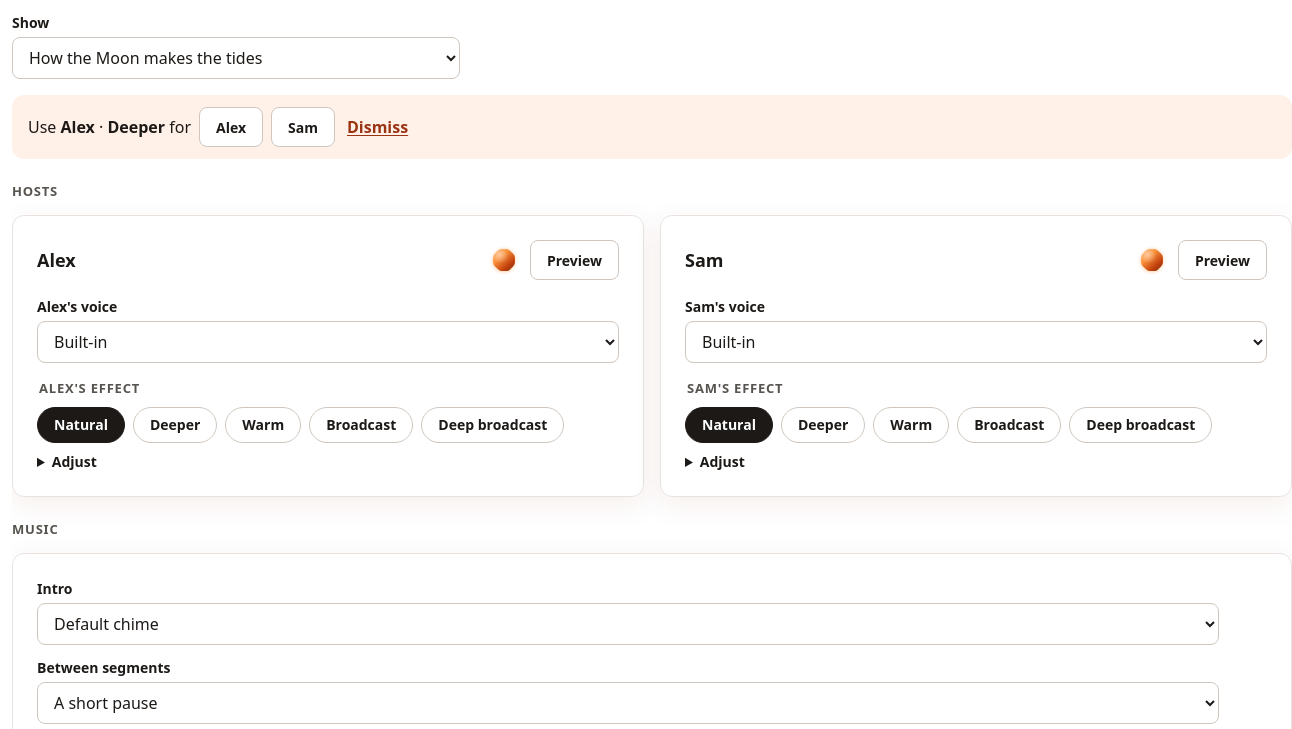
Test: voice studio › carries a voice and effect over from Type to speech to a host
Click the button "Sam": (303, 127) top-left (271, 107), bottom-right (335, 147)
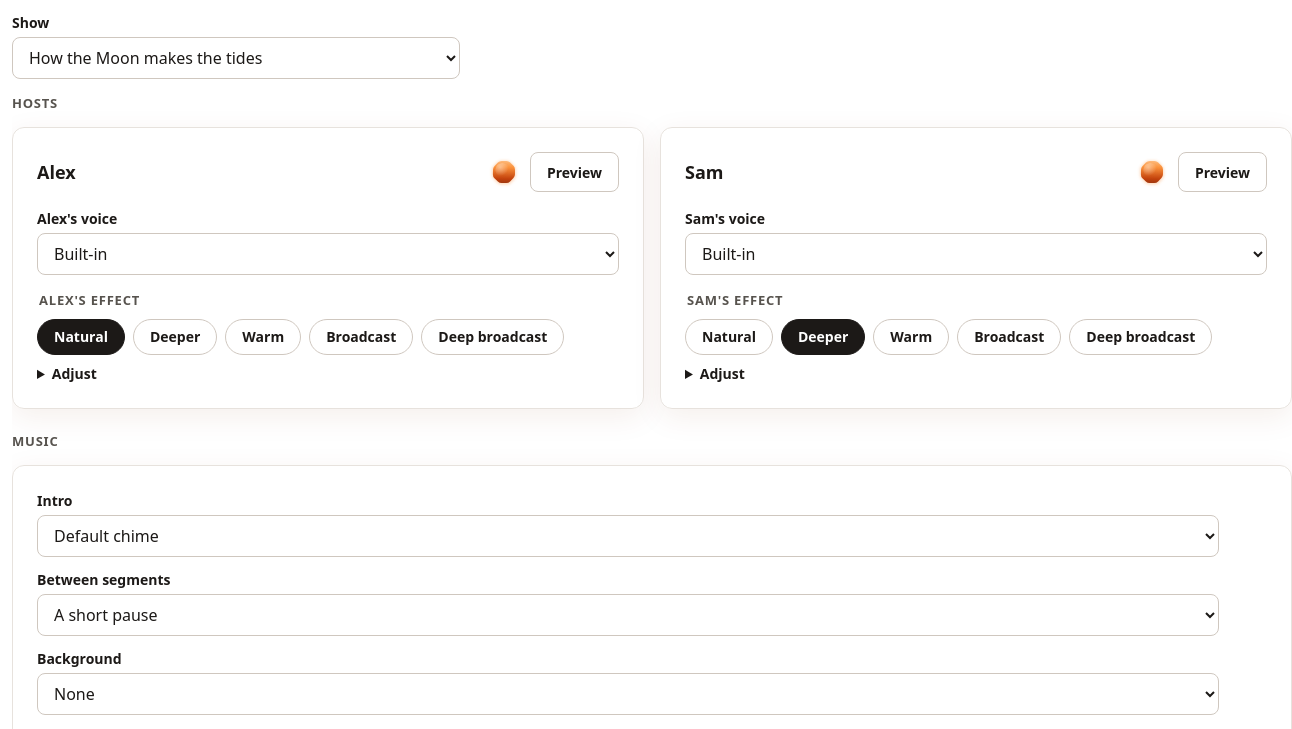
Now the radio button labelled "Deeper" below "Sam's effect" is checked, box top-left (781, 319), bottom-right (865, 355)
